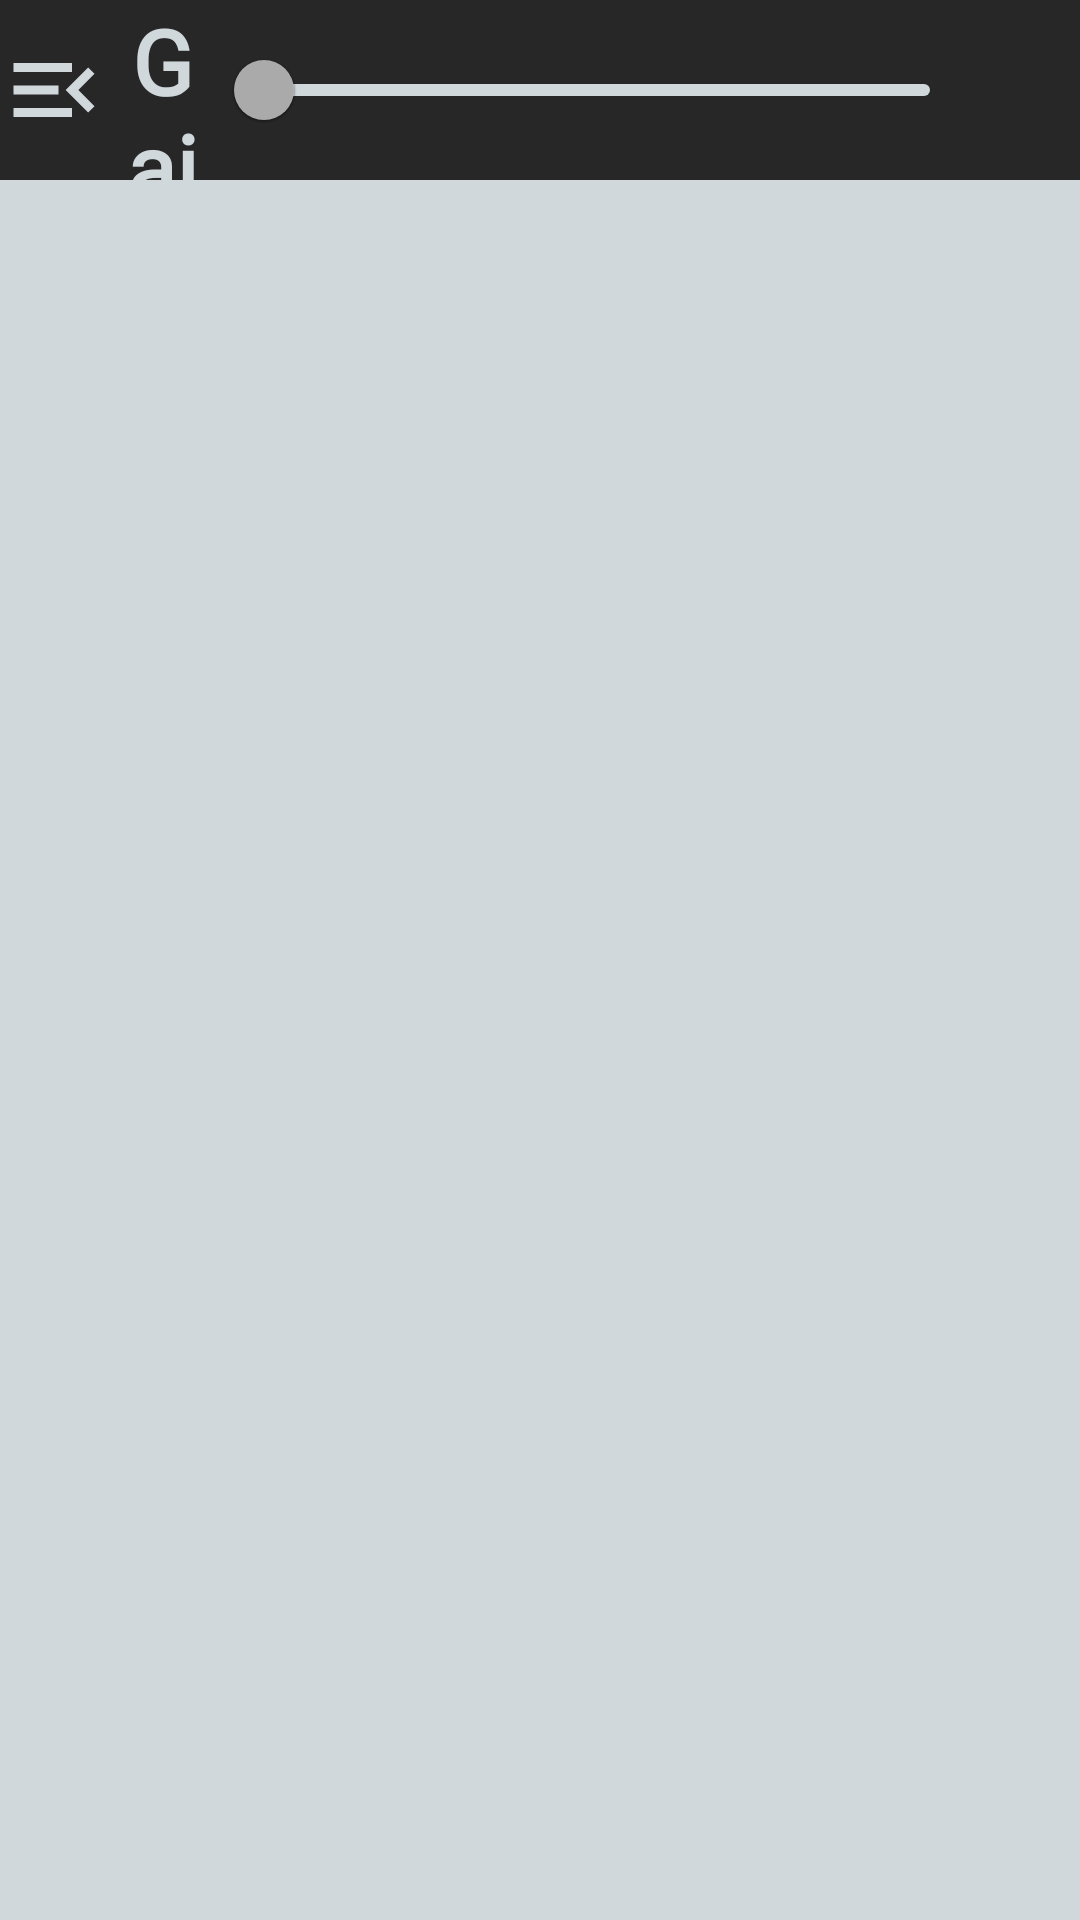

Icon bounding boxes for this 1080 x 1920 phone screenshot, format (x1, y1, x2, y2):
open: (13, 63, 95, 117)
